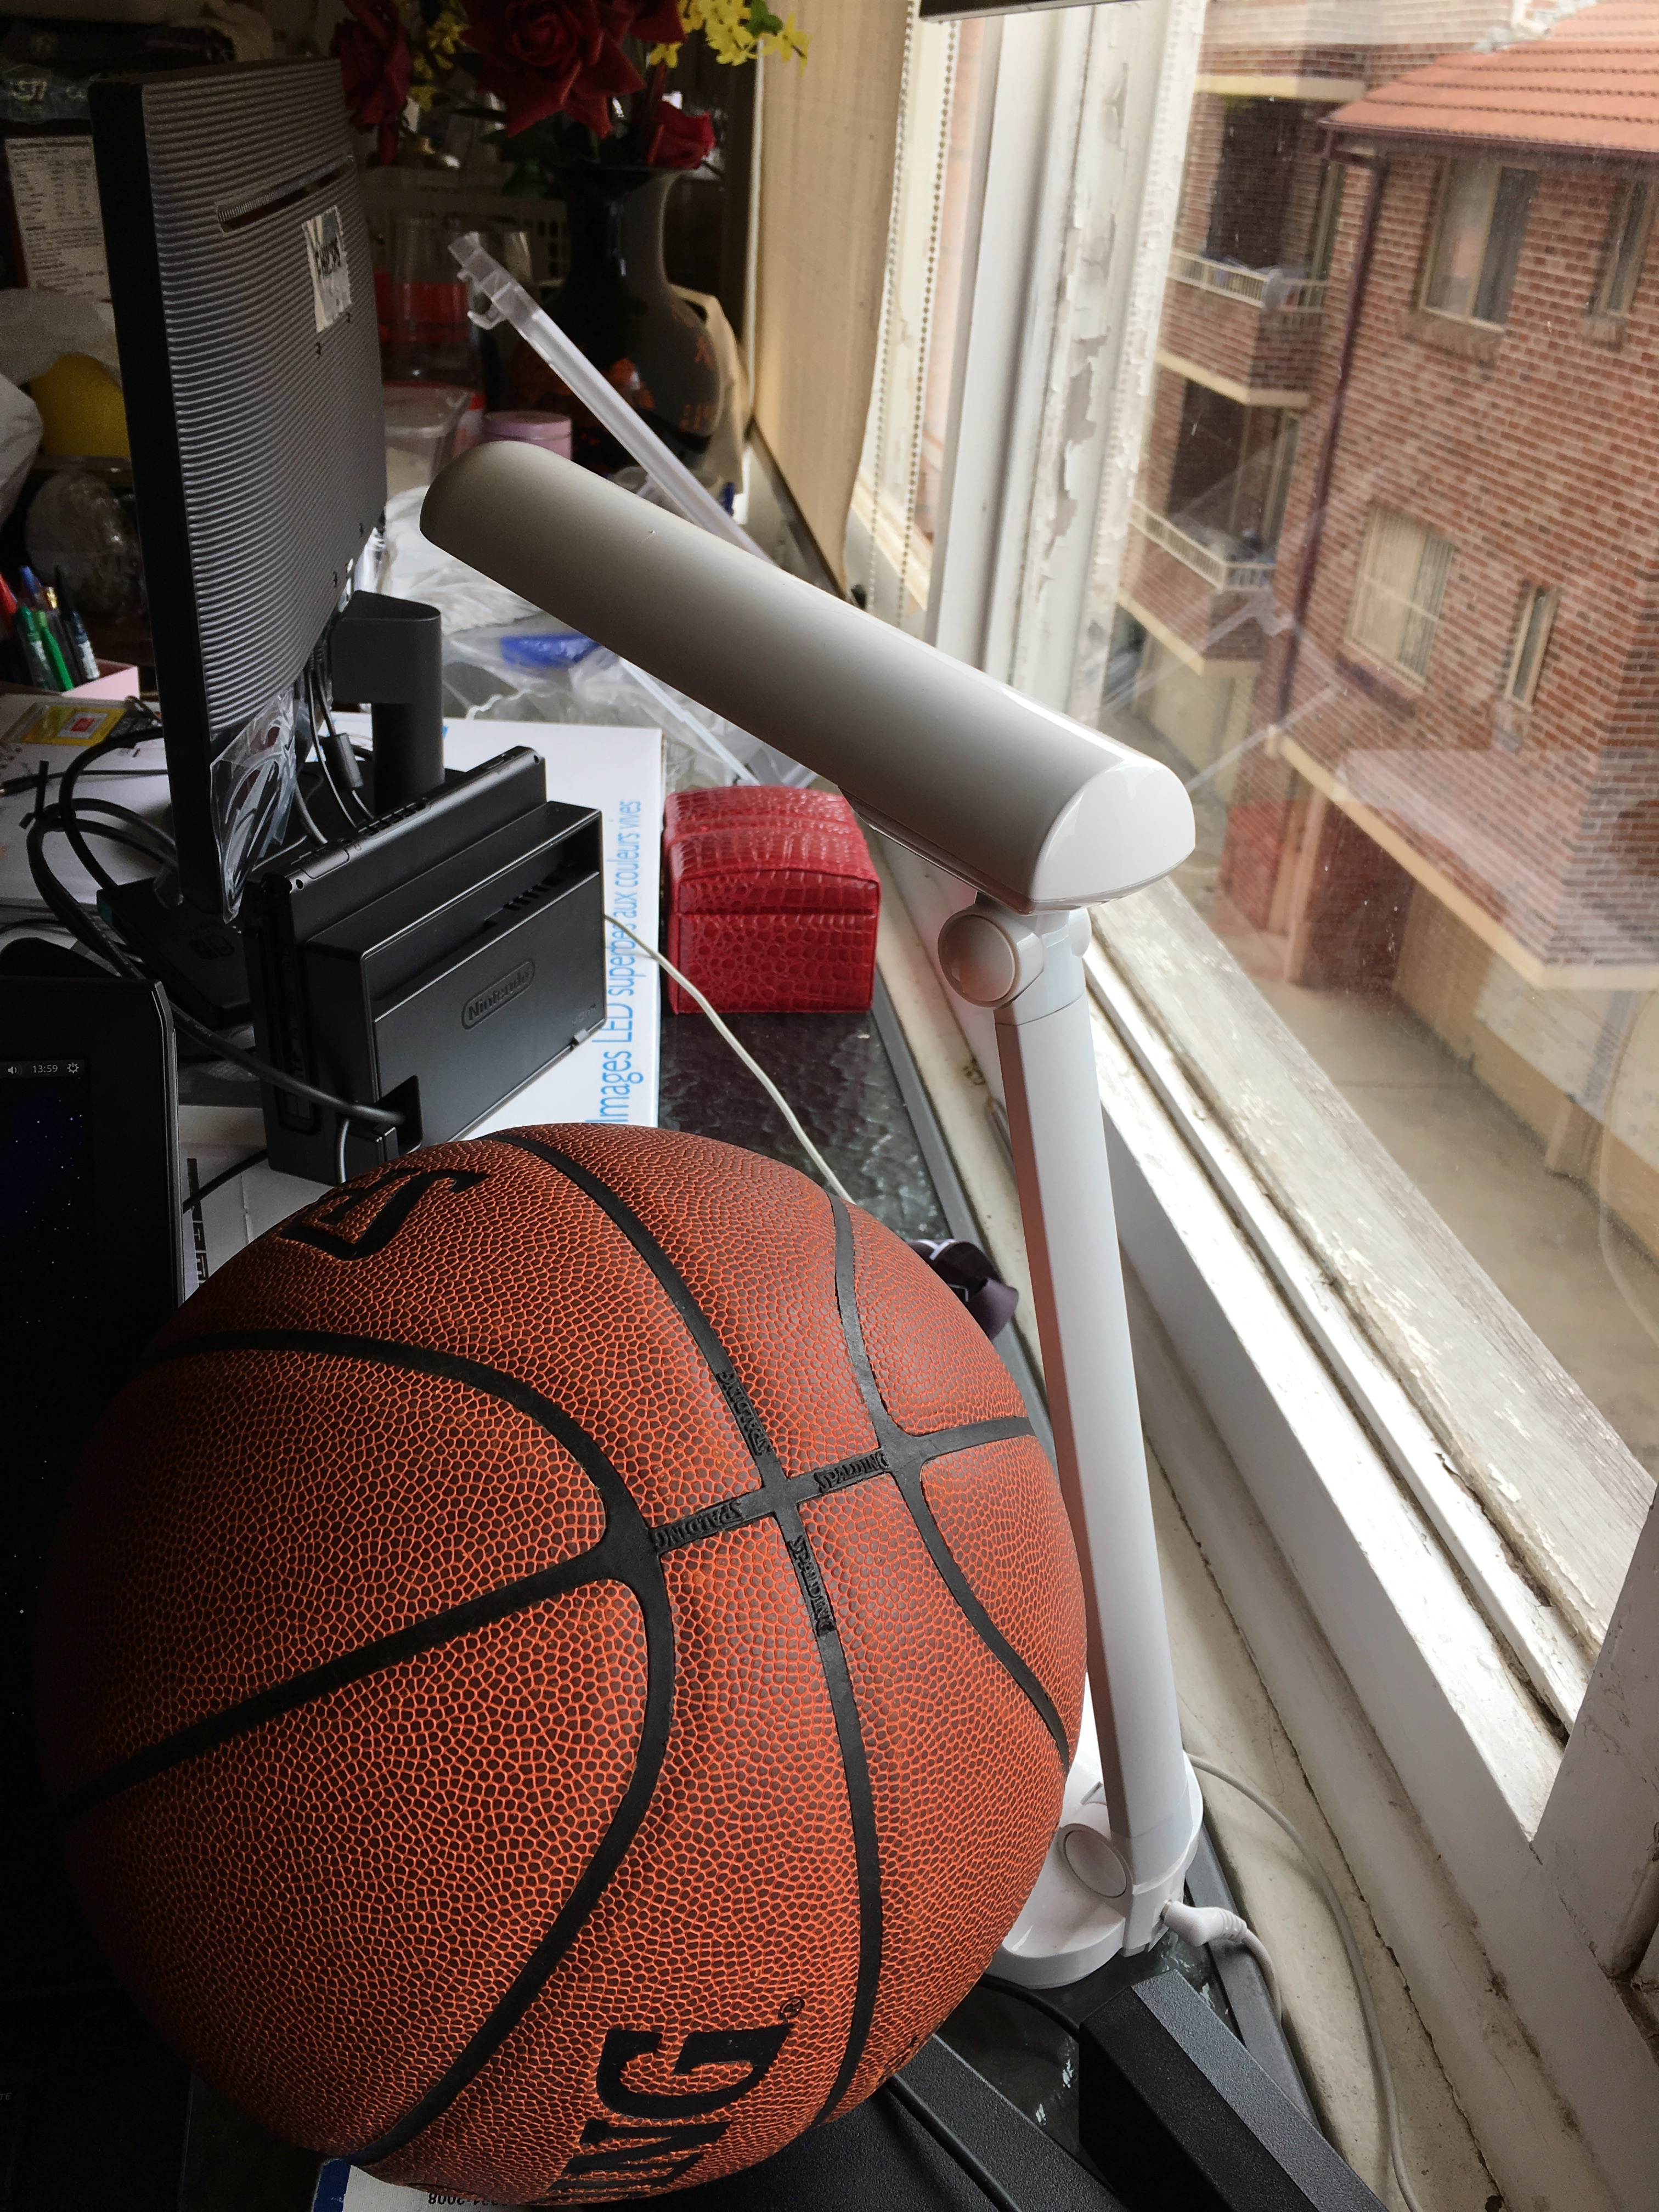Basketball: (31, 1113, 1117, 2210)
